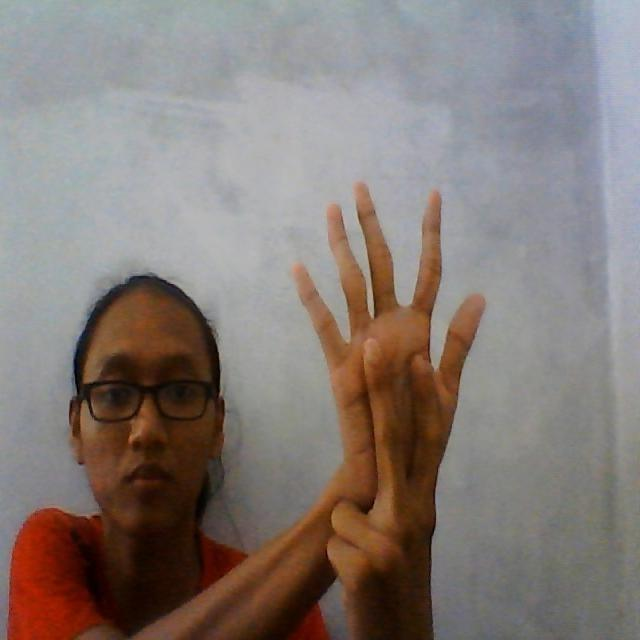N: (282, 170, 500, 516)
